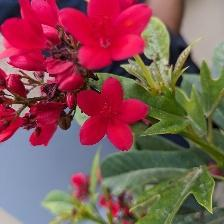jatropha: (78, 78, 150, 153)
